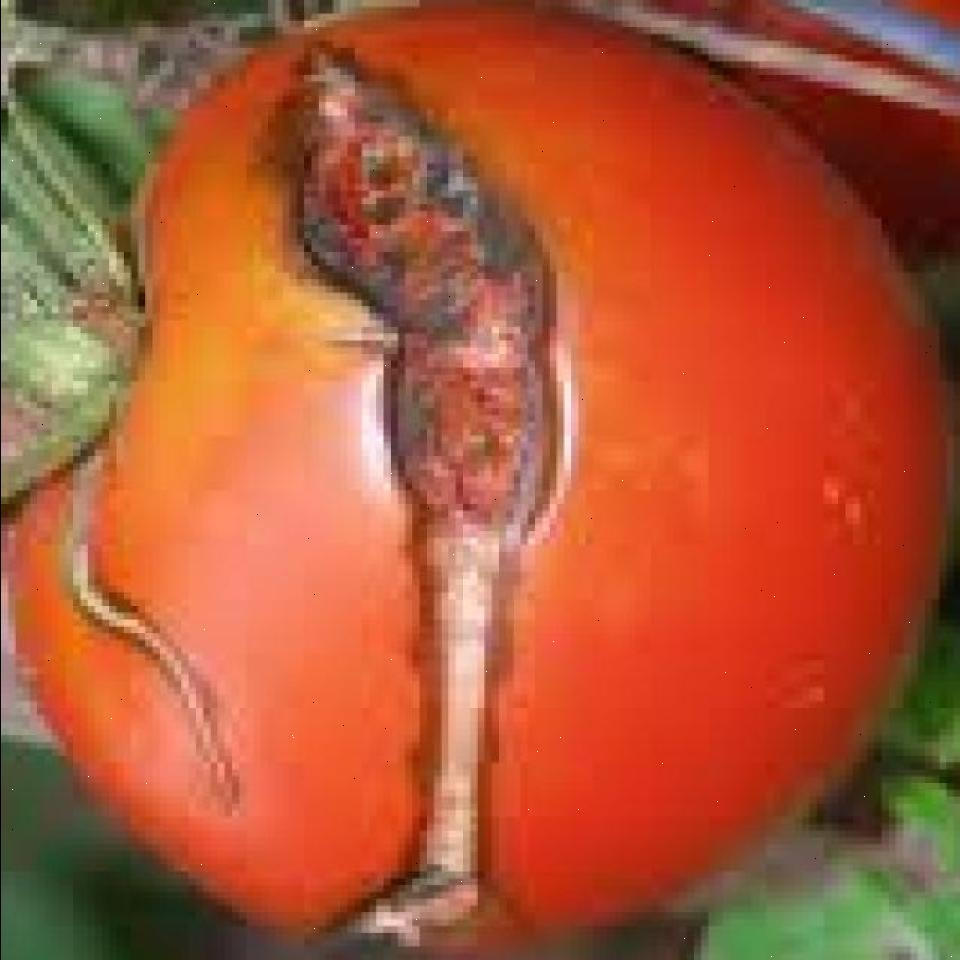Cracking: (259, 22, 556, 954), (36, 395, 248, 824)
